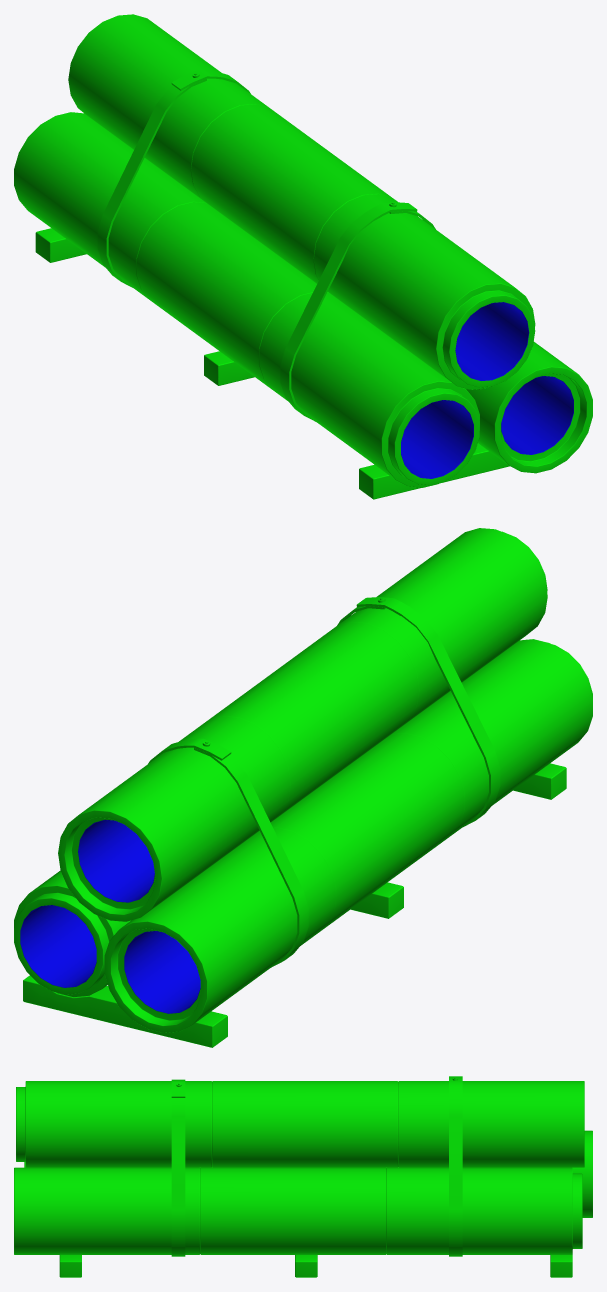
The model's file is ConcreteTubes.fbx.
3 renders of one model, top to bottom at view 1: azimuth 30°, elevation 25°; view 2: azimuth 150°, elevation 25°; view 3: azimuth 270°, elevation 25°, orthographic. The views are drawn at different scales.
Parts seen in each view (by area): view 1: Pipe1, Pipe2, Pipe3, Holder1, Holder2, Base3, Base, Base1; view 2: Pipe1, Pipe2, Pipe3, Base, Holder1, Holder2, Base3, Base1; view 3: Pipe3, Pipe1, Holder1, Holder2, Pipe2, Base3, Base, Base1.
Boxes of the visible parts, bbox=[...] form: Pipe1: bbox=[68, 14, 535, 389]; Pipe2: bbox=[14, 112, 479, 487]; Pipe3: bbox=[466, 341, 592, 473]; Holder1: bbox=[280, 202, 435, 421]; Holder2: bbox=[97, 70, 250, 287]; Base3: bbox=[359, 443, 509, 499]; Base: bbox=[35, 228, 86, 262]; Base1: bbox=[204, 351, 254, 385]; Pipe1: bbox=[58, 528, 547, 921]; Pipe2: bbox=[104, 639, 592, 1032]; Pipe3: bbox=[14, 870, 130, 997]; Base: bbox=[23, 975, 227, 1047]; Holder1: bbox=[337, 597, 500, 826]; Holder2: bbox=[148, 738, 308, 967]; Base3: bbox=[513, 763, 566, 799]; Base1: bbox=[350, 882, 403, 918]; Pipe3: bbox=[14, 1167, 582, 1254]; Pipe1: bbox=[16, 1081, 584, 1167]; Holder1: bbox=[171, 1079, 185, 1256]; Holder2: bbox=[449, 1076, 462, 1256]; Pipe2: bbox=[24, 1130, 592, 1217]; Base3: bbox=[59, 1255, 81, 1277]; Base: bbox=[550, 1255, 572, 1277]; Base1: bbox=[295, 1255, 317, 1277].
Size of the model in its own units: 122 by 124 by 398.
